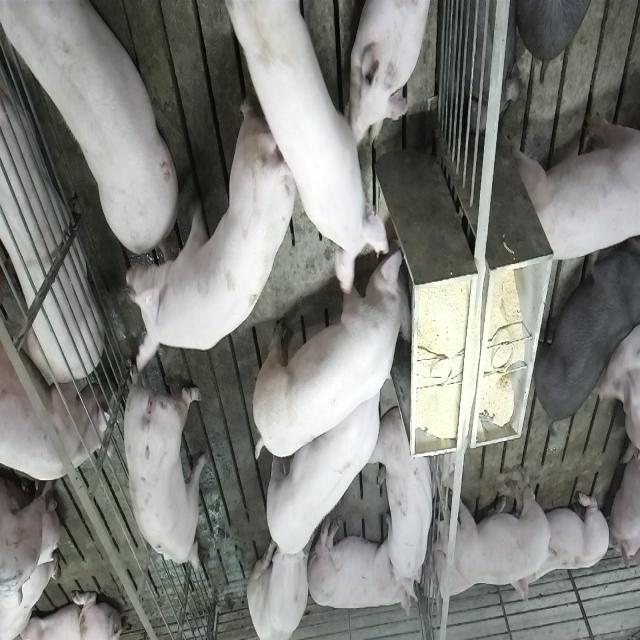Feeding: (204, 0, 390, 290), (255, 238, 419, 466)
Lateral_lying: (306, 513, 418, 619)
Sitting: (247, 524, 313, 640)
Standing: (128, 92, 302, 368), (0, 0, 175, 255), (262, 364, 389, 560), (511, 102, 639, 264), (534, 229, 638, 418), (123, 357, 209, 576), (428, 458, 554, 588), (0, 338, 106, 480)
Sternal_lying: (374, 406, 438, 600), (351, 0, 434, 148), (515, 486, 610, 608)
